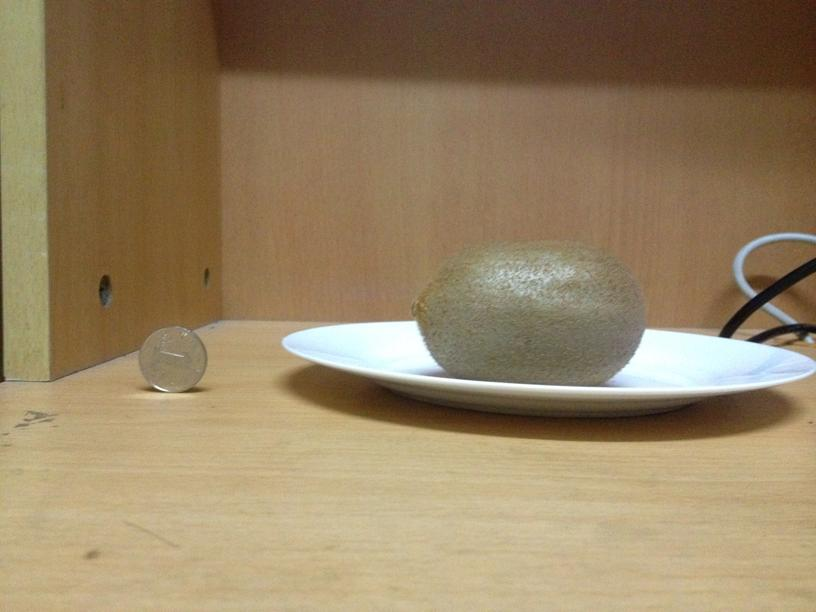coin: (138, 327, 208, 394)
qiwi: (395, 240, 644, 383)
